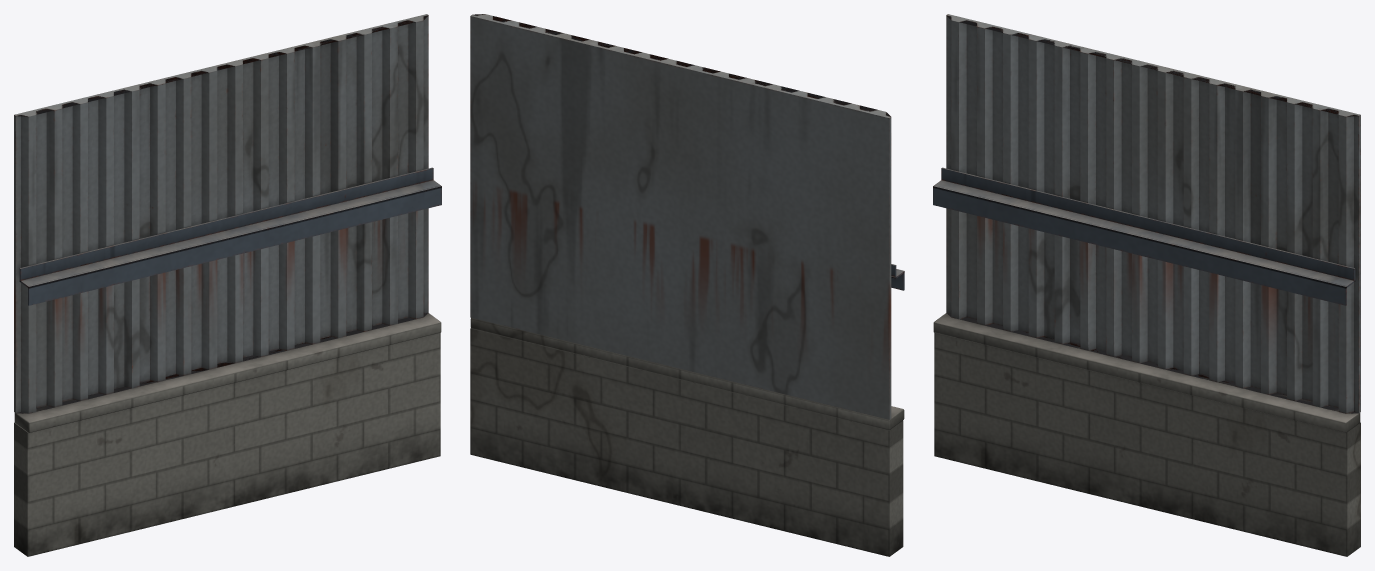
File: wall_lower.fbx
The picture shows the model from 3 angles, left to right: view 1: azimuth 30°, elevation 25°; view 2: azimuth 150°, elevation 25°; view 3: azimuth 330°, elevation 25°; orthographic projection.
Parts seen in each view (by area): view 1: Body; view 2: Body; view 3: Body.
Part boxes in pixels (x1,y1,x2,y2): Body: [14, 14, 441, 556]; Body: [470, 14, 904, 556]; Body: [933, 14, 1360, 556].
Bounding box in the file's own units: 16 × 16 × 1.
1 material, 1 textured.
